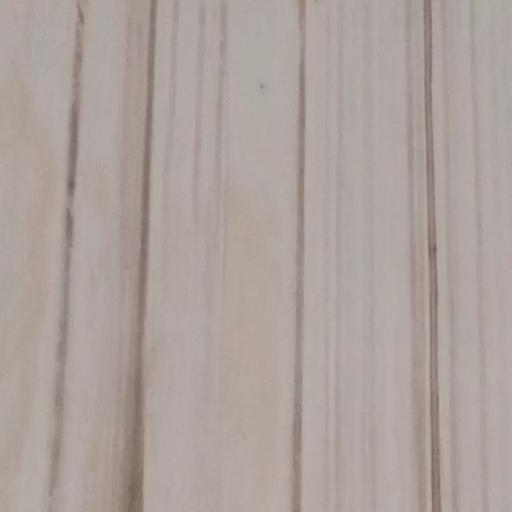stain: (275, 1, 512, 511), (43, 8, 162, 512), (168, 2, 233, 409)
